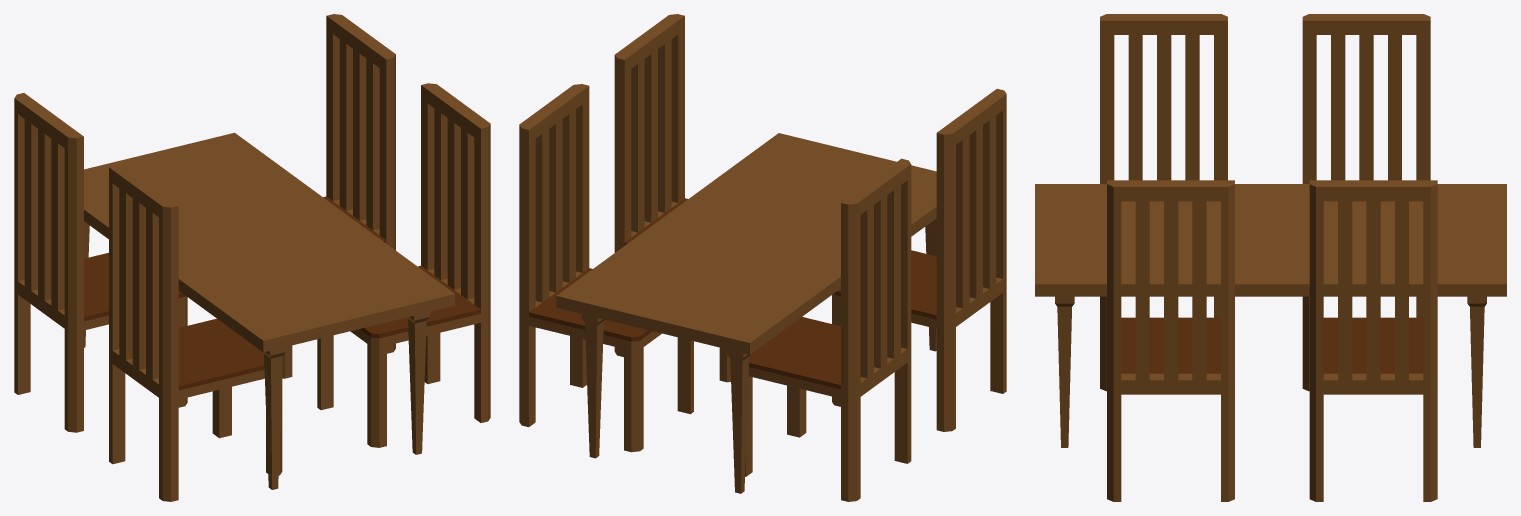
Rendered from Table.fbx.
The picture shows the model from 3 angles, left to right: view 1: azimuth 30°, elevation 25°; view 2: azimuth 150°, elevation 25°; view 3: azimuth 270°, elevation 25°; orthographic projection. The views are drawn at different scales.
Parts seen in each view (by area): view 1: Table, Chair4, Chair1, Chair3, Chair2; view 2: Table, Chair3, Chair2, Chair4, Chair1; view 3: Table, Chair2, Chair1, Chair3, Chair4.
Part boxes in pixels (x1,y1,x2,y2): Table: (84,132,454,489); Chair4: (109,162,282,501); Chair1: (317,83,490,447); Chair3: (14,93,187,432); Chair2: (282,14,395,378); Table: (556,133,936,493); Chair3: (745,158,911,501); Chair2: (519,84,693,452); Chair4: (832,89,1006,431); Chair1: (614,14,730,382); Table: (1035,184,1506,447); Chair2: (1309,180,1437,501); Chair1: (1107,180,1234,501); Chair3: (1302,14,1430,391); Chair4: (1100,14,1227,391).
Bounding box in the file's own units: 208 × 177 × 240.
